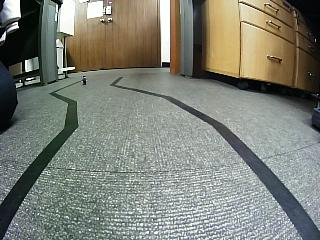person: (81, 76, 87, 85)
